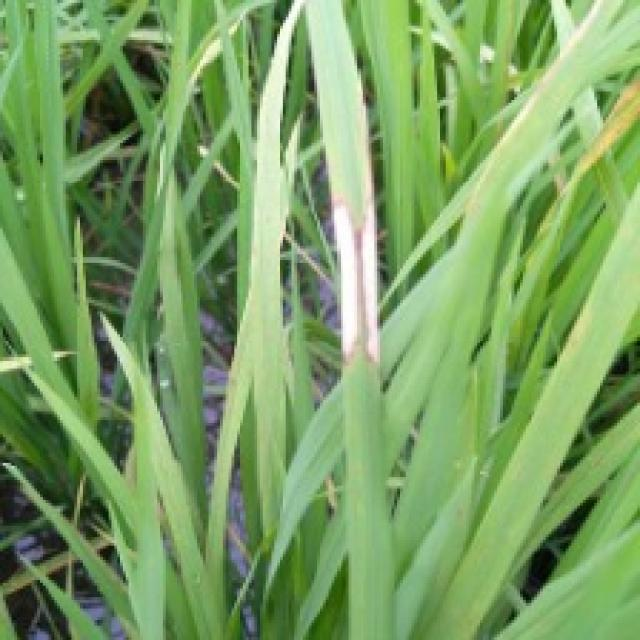Rice___Bacterial_Leaf_Blight: (297, 0, 398, 637)
